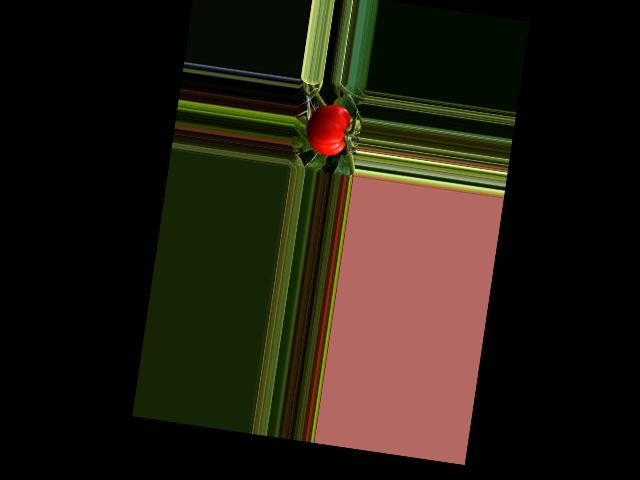tomato: (303, 100, 352, 157)
